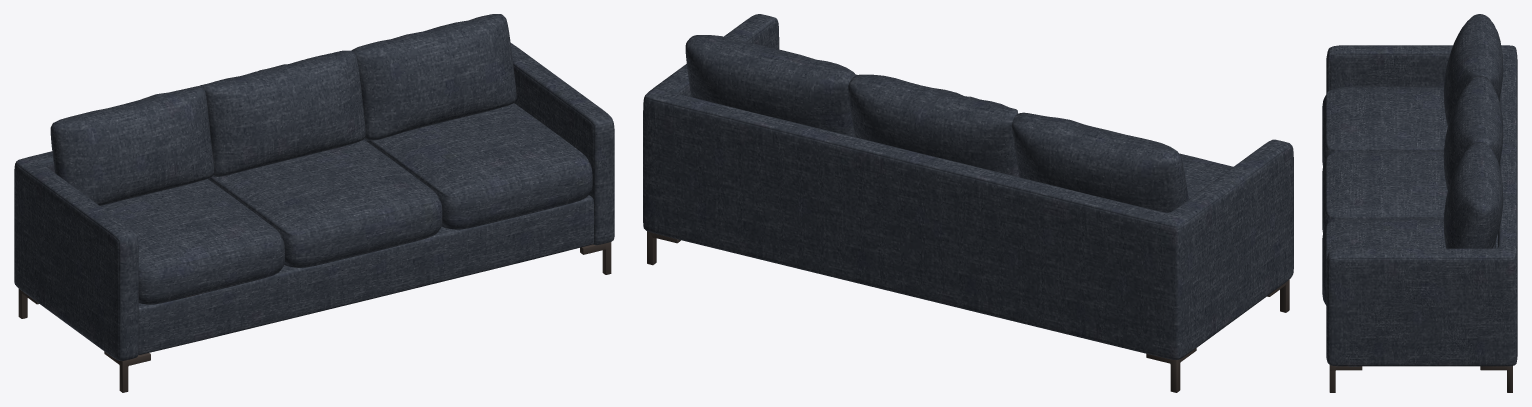
The model's file is B07B4N1RTQ.glb.
The picture shows the model from 3 angles, left to right: view 1: azimuth 30°, elevation 25°; view 2: azimuth 150°, elevation 25°; view 3: azimuth 270°, elevation 25°; orthographic projection. The views are drawn at different scales.
Visible parts, largest first — view 1: RootNode; view 2: RootNode; view 3: RootNode.
Part boxes in pixels (x1=…): RootNode: x1=14, y1=14, x2=614, y2=392; RootNode: x1=643, y1=14, x2=1293, y2=392; RootNode: x1=1322, y1=14, x2=1517, y2=392.
Bounding box in the file's own units: 2.22 × 0.8744 × 0.859.
Materials: 1 (1 with a texture image).
